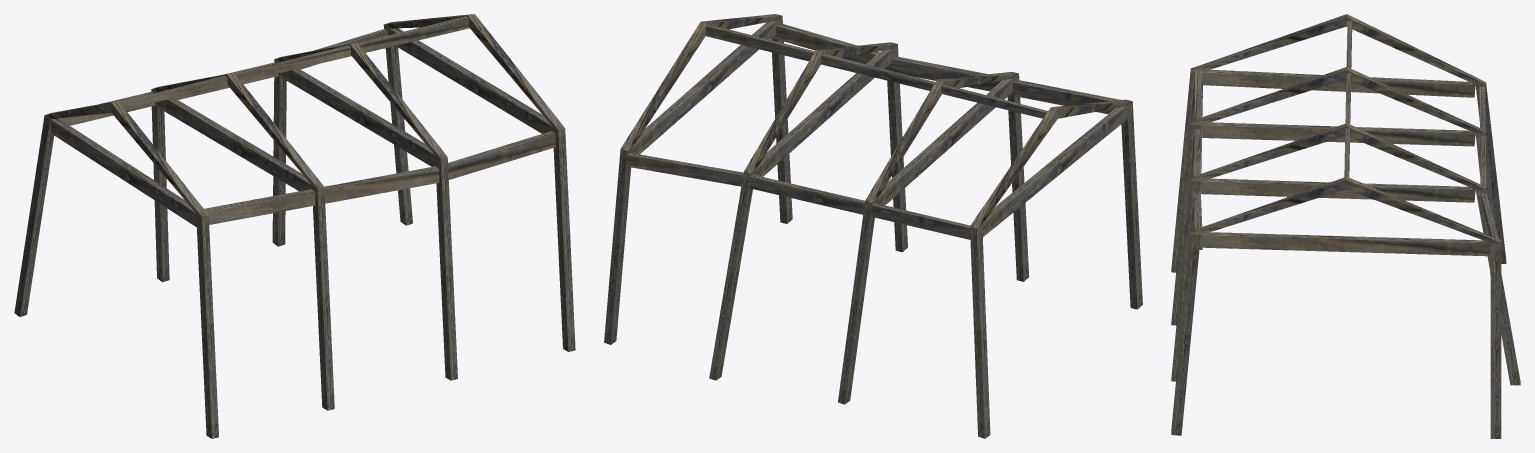
File: desn2_hutskel2.obj
3 views of the same model, side by side, from view 1: azimuth 30°, elevation 25°; view 2: azimuth 150°, elevation 25°; view 3: azimuth 270°, elevation 25° (orthographic). The views are drawn at different scales.
Visible parts, largest first — view 1: desn2_hutskel2; view 2: desn2_hutskel2; view 3: desn2_hutskel2.
Part boxes in pixels (x1,y1,x2,y2): desn2_hutskel2: [14, 14, 575, 438]; desn2_hutskel2: [604, 14, 1142, 438]; desn2_hutskel2: [1171, 14, 1520, 438].
Size of the model in its own units: 6.07 by 4.02 by 5.03.
Materials: 1 (1 with a texture image).
